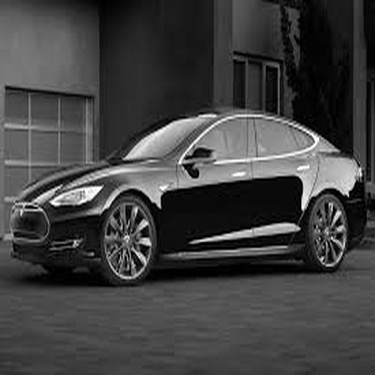car: (6, 103, 370, 285)
